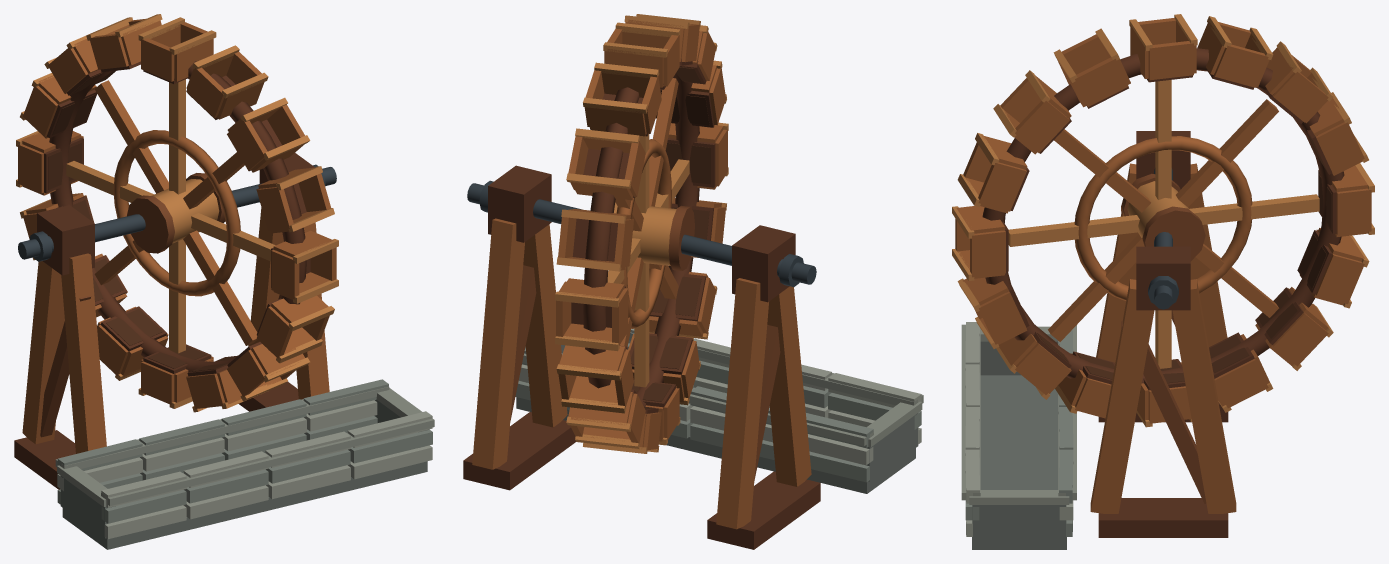
File: asset.glb
3 renders of one model, left to right at view 1: azimuth 30°, elevation 25°; view 2: azimuth 150°, elevation 25°; view 3: azimuth 270°, elevation 25°, orthographic. The views are drawn at different scales.
Visible parts, largest first — view 1: LeftLeg_1, OuterWoodenRim, InnerWoodenRim, LeftLeg_-1, TroughBase, TroughTopCap_1, LeftBearingBlock, TroughTopCap_-1, Bucket_03, Bucket_04, Bucket_02, MainAxle (+66 smaller); view 2: RightLeg_-1, LeftLeg_-1, OuterWoodenRim, LeftLeg_1, RightLeg_1, LeftStandardFoot, RightStandardFoot, RightBearingBlock, LeftBearingBlock, Bucket_09, MainAxle, TroughBase (+54 smaller); view 3: TroughBase, RightLeg_-1, RightLeg_1, InnerWoodenRim, OuterWoodenRim, RightStandardFoot, TroughEndWall_1, RightBearingBlock, RightLowerBrace, Spoke_05, Spoke_02, Spoke_01 (+55 smaller).
Part boxes in pixels (x1=…): LeftLeg_1: x1=61, y1=253, x2=106, y2=453; OuterWoodenRim: x1=49, y1=61, x2=306, y2=372; InnerWoodenRim: x1=113, y1=130, x2=240, y2=296; LeftLeg_-1: x1=22, y1=261, x2=64, y2=444; TroughBase: x1=62, y1=461, x2=427, y2=549; TroughTopCap_1: x1=101, y1=418, x2=434, y2=505; LeftBearingBlock: x1=37, y1=205, x2=94, y2=275; TroughTopCap_-1: x1=55, y1=386, x2=389, y2=468; Bucket_03: x1=256, y1=295, x2=334, y2=358; Bucket_04: x1=271, y1=230, x2=338, y2=299; Bucket_02: x1=227, y1=344, x2=309, y2=396; MainAxle: x1=18, y1=167, x2=336, y2=259; RightLeg_-1: x1=472, y1=218, x2=524, y2=469; LeftLeg_-1: x1=716, y1=278, x2=768, y2=529; OuterWoodenRim: x1=583, y1=73, x2=699, y2=406; LeftLeg_1: x1=767, y1=286, x2=811, y2=486; RightLeg_1: x1=523, y1=224, x2=567, y2=427; LeftStandardFoot: x1=707, y1=471, x2=820, y2=549; RightStandardFoot: x1=463, y1=412, x2=575, y2=490; RightBearingBlock: x1=488, y1=165, x2=551, y2=242; LeftBearingBlock: x1=732, y1=225, x2=795, y2=302; Bucket_09: x1=583, y1=75, x2=661, y2=136; MainAxle: x1=467, y1=183, x2=816, y2=284; TroughBase: x1=516, y1=397, x2=915, y2=493; TroughBase: x1=972, y1=375, x2=1066, y2=549; RightLeg_-1: x1=1172, y1=279, x2=1236, y2=513; RightLeg_1: x1=1090, y1=279, x2=1154, y2=513; InnerWoodenRim: x1=1074, y1=136, x2=1252, y2=300; OuterWoodenRim: x1=982, y1=48, x2=1344, y2=383; RightStandardFoot: x1=1098, y1=498, x2=1228, y2=537; TroughEndWall_1: x1=972, y1=505, x2=1066, y2=538; RightBearingBlock: x1=1136, y1=246, x2=1190, y2=310; RightLowerBrace: x1=1121, y1=321, x2=1206, y2=503; Spoke_05: x1=1176, y1=99, x2=1278, y2=207; Spoke_02: x1=1008, y1=215, x2=1139, y2=246; Spoke_01: x1=1048, y1=234, x2=1144, y2=341.
Size of the model in its own units: 4.94 by 5.92 by 5.17.
